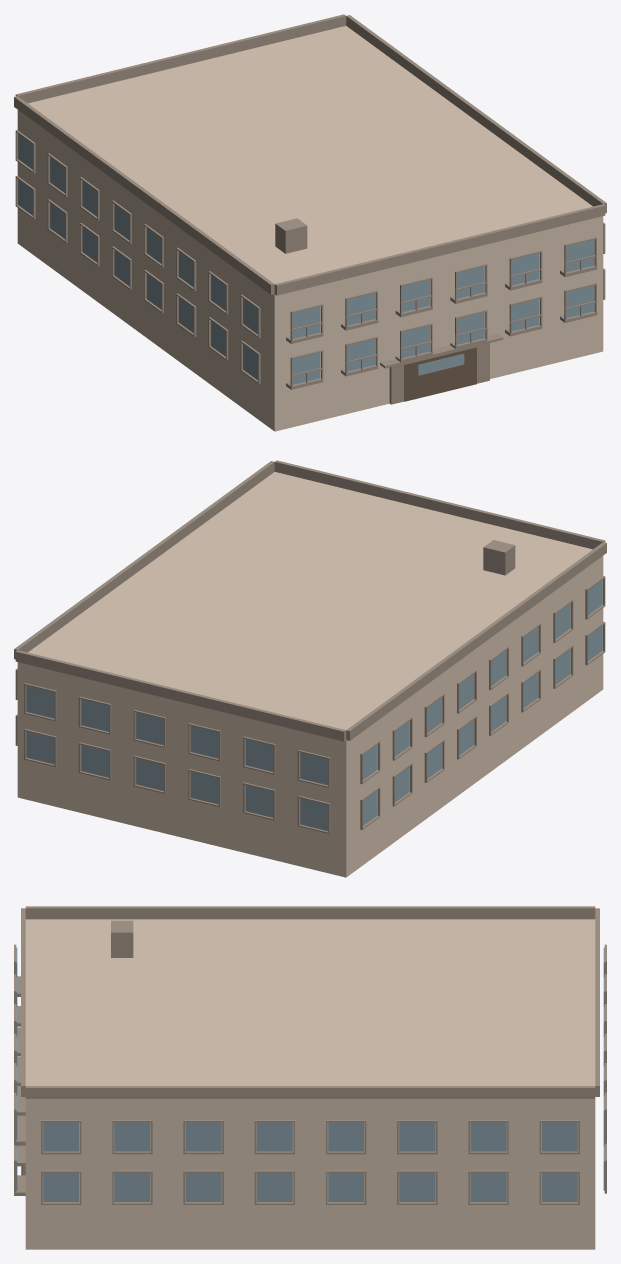
The model's file is residential_3x4_a.glb.
3 views of the same model, one above another, from view 1: azimuth 30°, elevation 25°; view 2: azimuth 150°, elevation 25°; view 3: azimuth 270°, elevation 25° (orthographic). The views are drawn at different scales.
Visible parts, largest first — view 1: residential_3x4_a_0; view 2: residential_3x4_a_0; view 3: residential_3x4_a_0.
Part boxes in pixels (x1=…): residential_3x4_a_0: x1=14, y1=14, x2=606, y2=431; residential_3x4_a_0: x1=14, y1=460, x2=606, y2=877; residential_3x4_a_0: x1=14, y1=906, x2=606, y2=1249.
Size of the model in its own units: 23.74 by 10.5 by 31.74.
